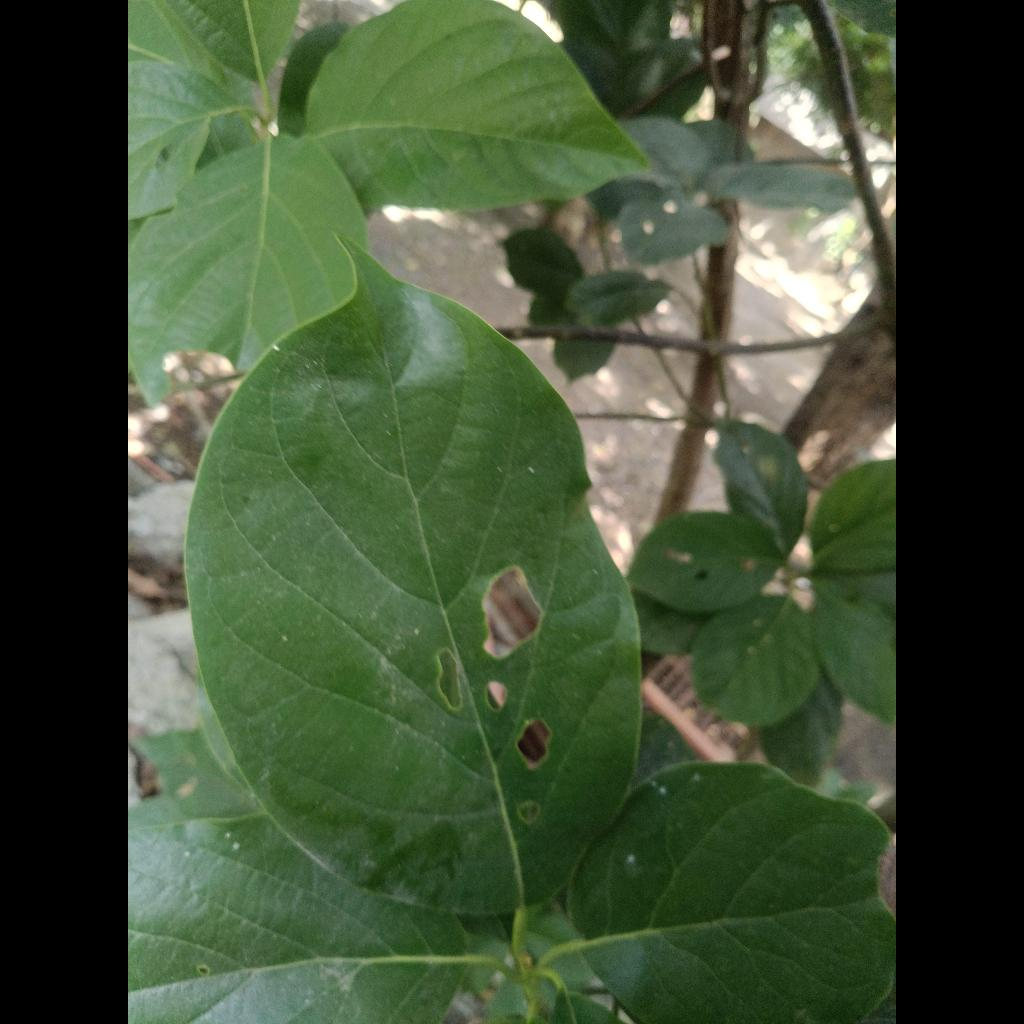Pest Infested: (187, 245, 640, 913)
